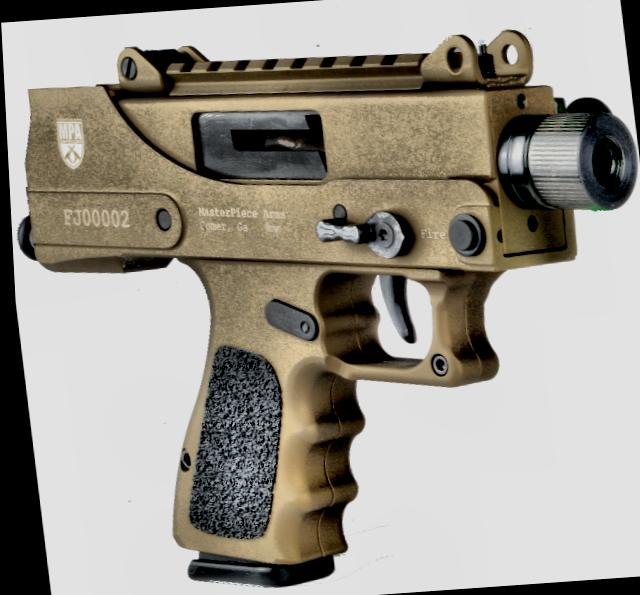pistol: (0, 3, 640, 595)
